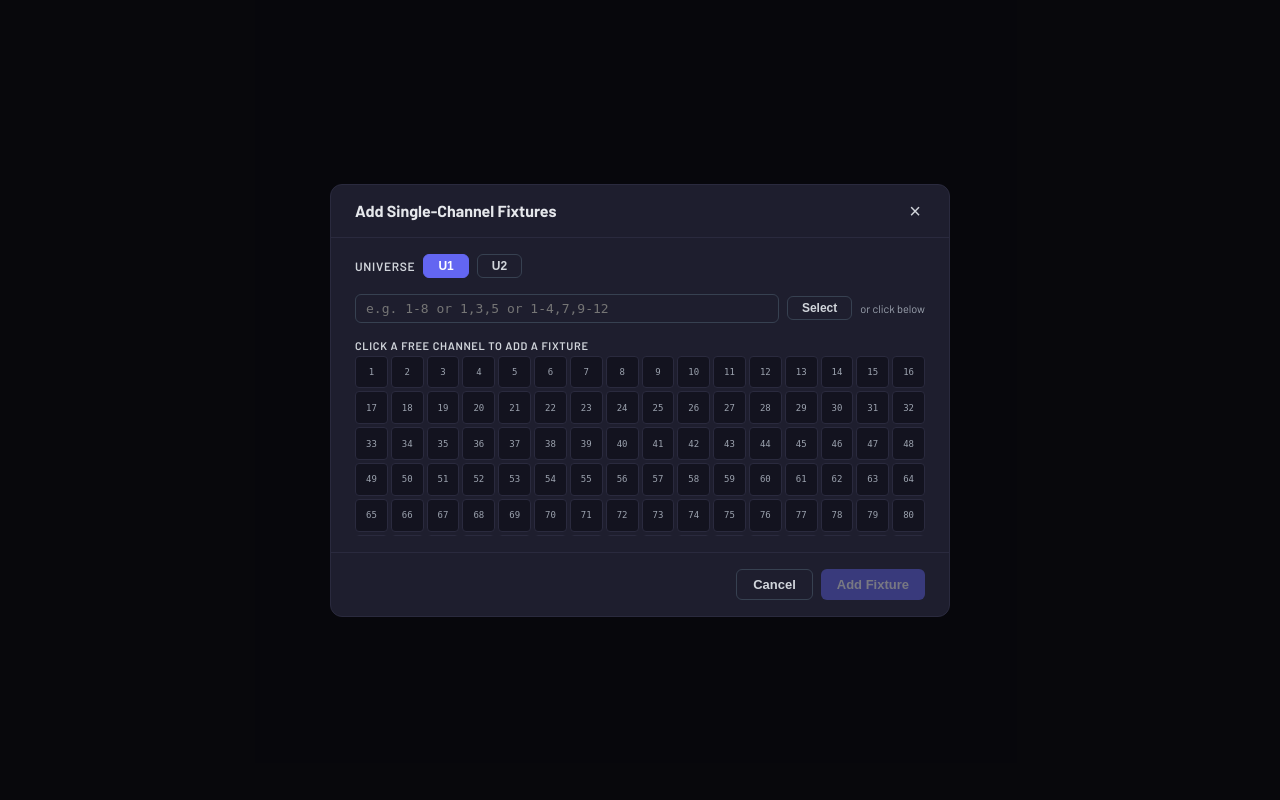
Test: AddSingleChannelFixturesModal › clicking a free channel selects it and enables Add Fixture
Click the text titled "Channel 5" at (515, 372), box x1=498 y1=356 x2=531 y2=388
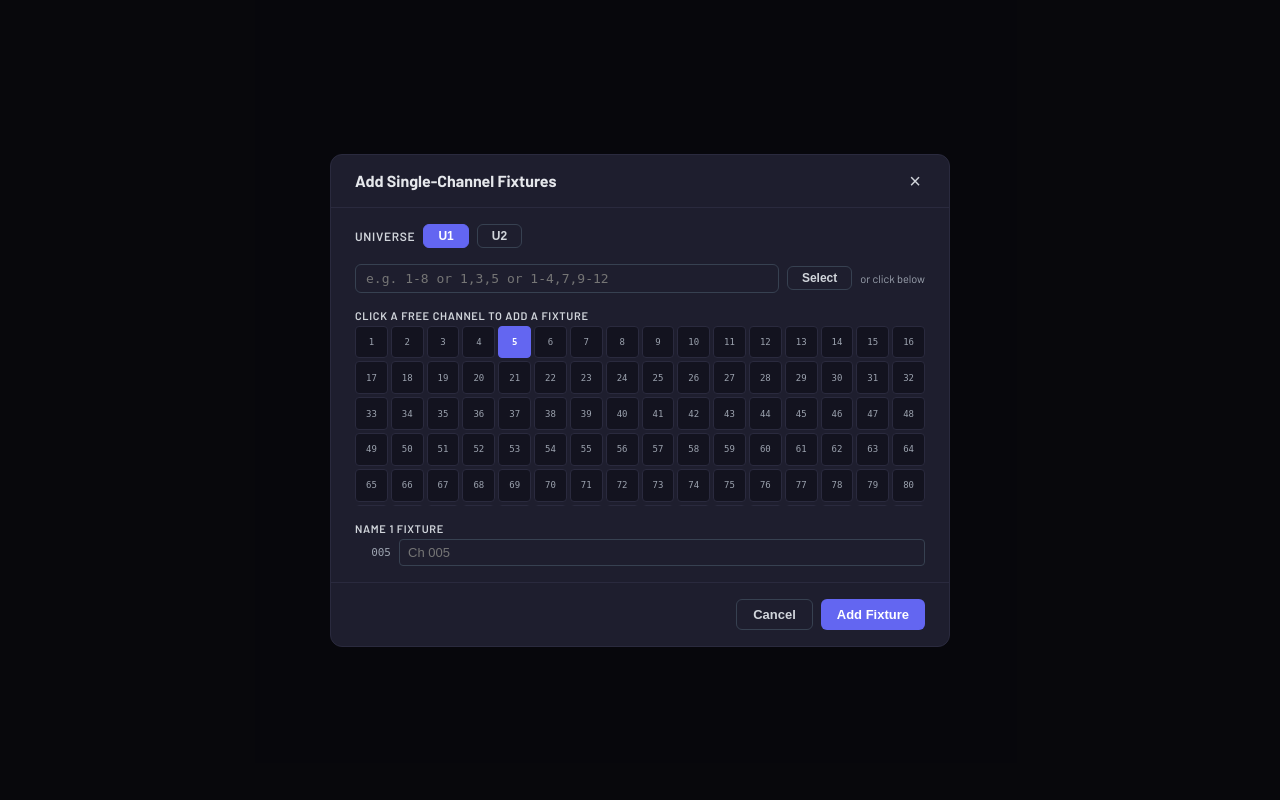
Check: the button "Add Fixture" is enabled, box x1=821 y1=598 x2=925 y2=630
